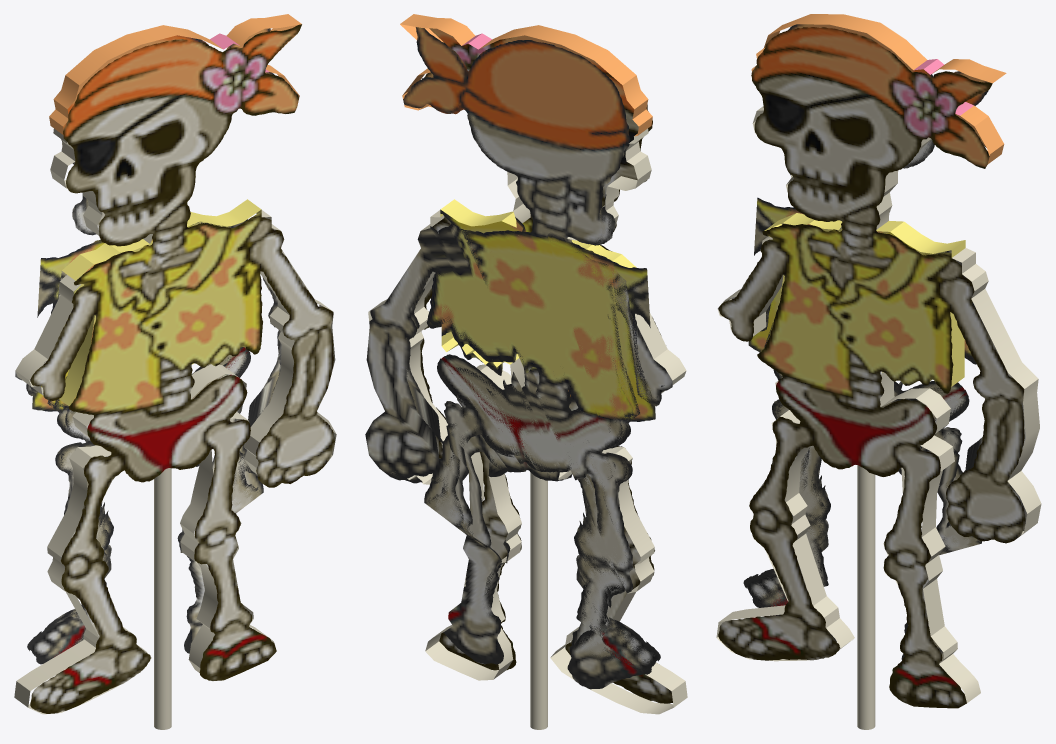
Rendered from Skeleton.fbx.
The picture shows the model from 3 angles, left to right: view 1: azimuth 30°, elevation 25°; view 2: azimuth 150°, elevation 25°; view 3: azimuth 330°, elevation 25°; orthographic projection.
Visible parts, largest first — view 1: Skeleton; view 2: Skeleton; view 3: Skeleton.
Boxes of the visible parts, box(x1,y1,x2,y2) form: Skeleton: box(14, 14, 336, 729); Skeleton: box(365, 14, 687, 729); Skeleton: box(716, 14, 1041, 729).
Size of the model in its own units: 168 by 361 by 13.18.
